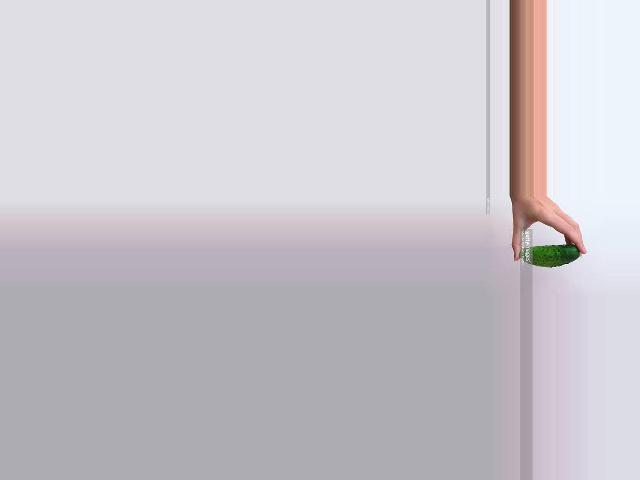cucumber: (519, 245, 579, 268)
